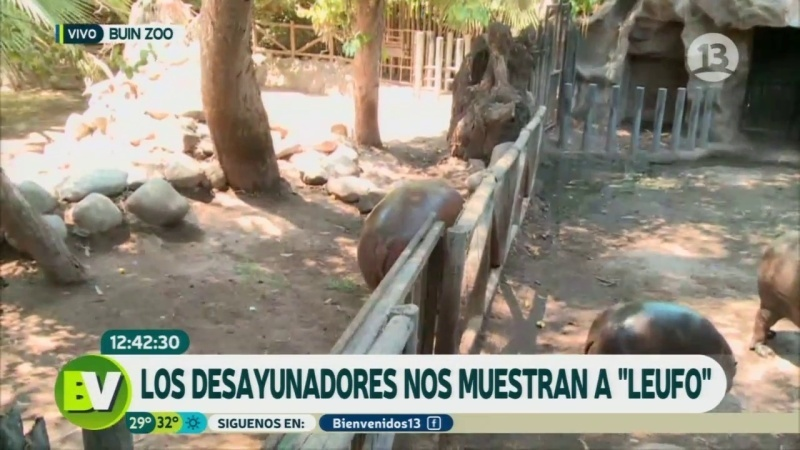hipopotamo: (344, 167, 467, 314), (568, 279, 743, 354)
